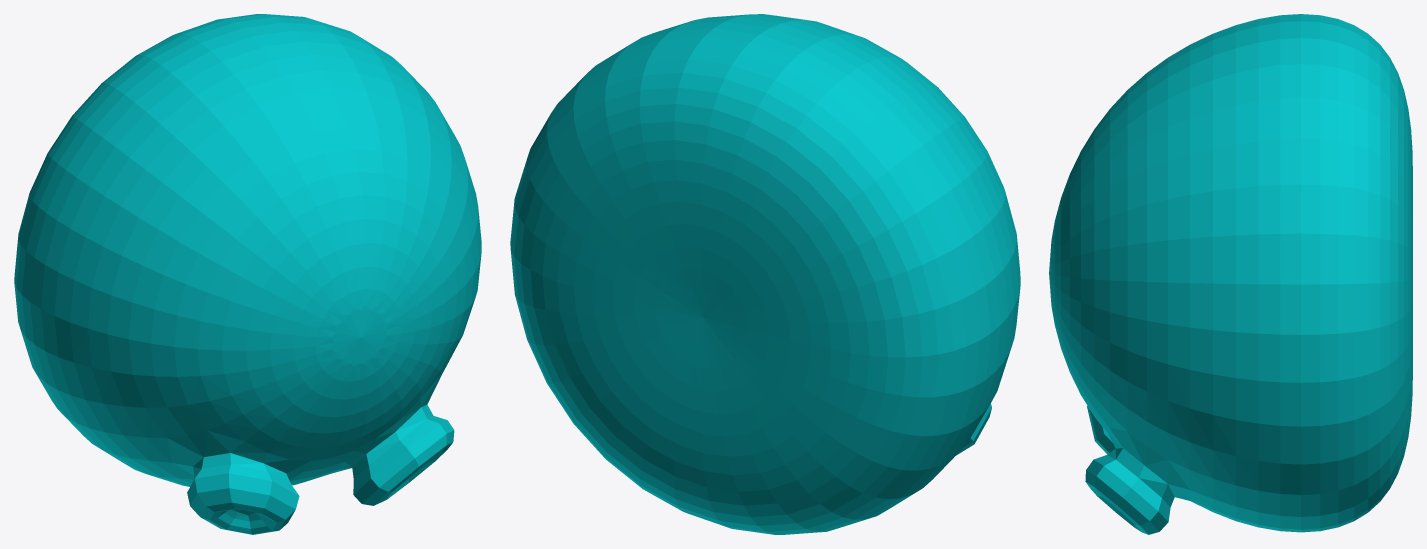
Rendered from slime.obj.
The picture shows the model from 3 angles, left to right: view 1: azimuth 30°, elevation 25°; view 2: azimuth 150°, elevation 25°; view 3: azimuth 270°, elevation 25°; orthographic projection. The views are drawn at different scales.
Parts seen in each view (by area): view 1: Sphere_Sphere.010; view 2: Sphere_Sphere.010; view 3: Sphere_Sphere.010.
Part boxes in pixels (<box>): Sphere_Sphere.010: <box>14,14,481,534</box>; Sphere_Sphere.010: <box>510,14,1020,534</box>; Sphere_Sphere.010: <box>1049,14,1412,534</box>.
Bounding box in the file's own units: 13.56 × 13.56 × 9.51.
